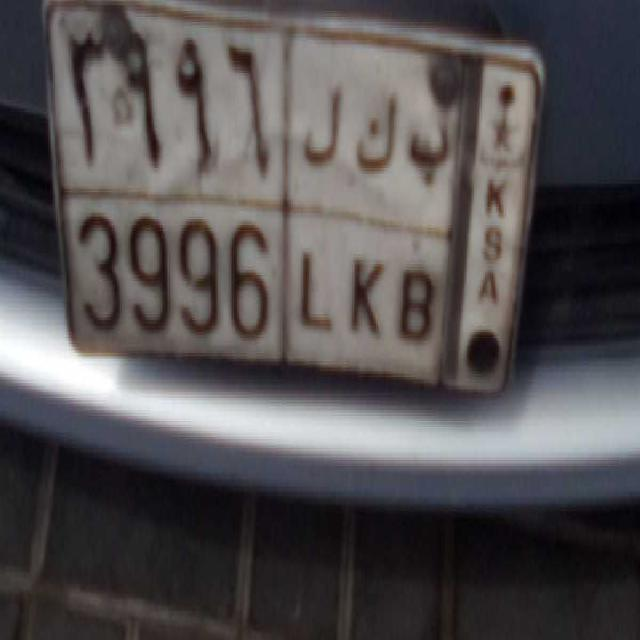license_plate: (63, 189, 444, 373)
